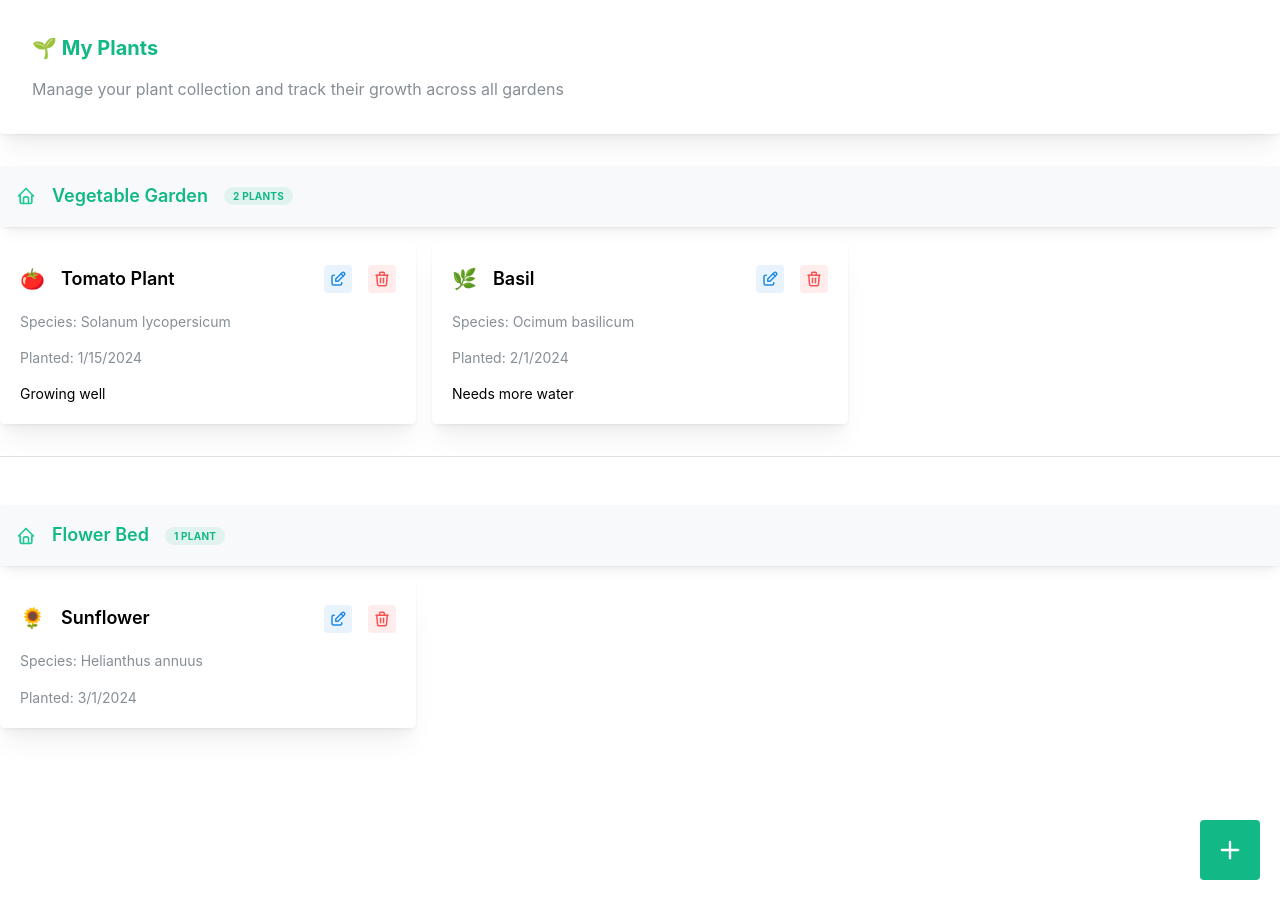
PlantList Component › Add Plant Modal › closes modal on cancel
The width and height of the screenshot is (1280, 900).
Expected: the text "🌱 My Plants" is shown, [32,36,158,60]
Click the 7th button.
click(1230, 850)  # box [1200,820,1260,880]
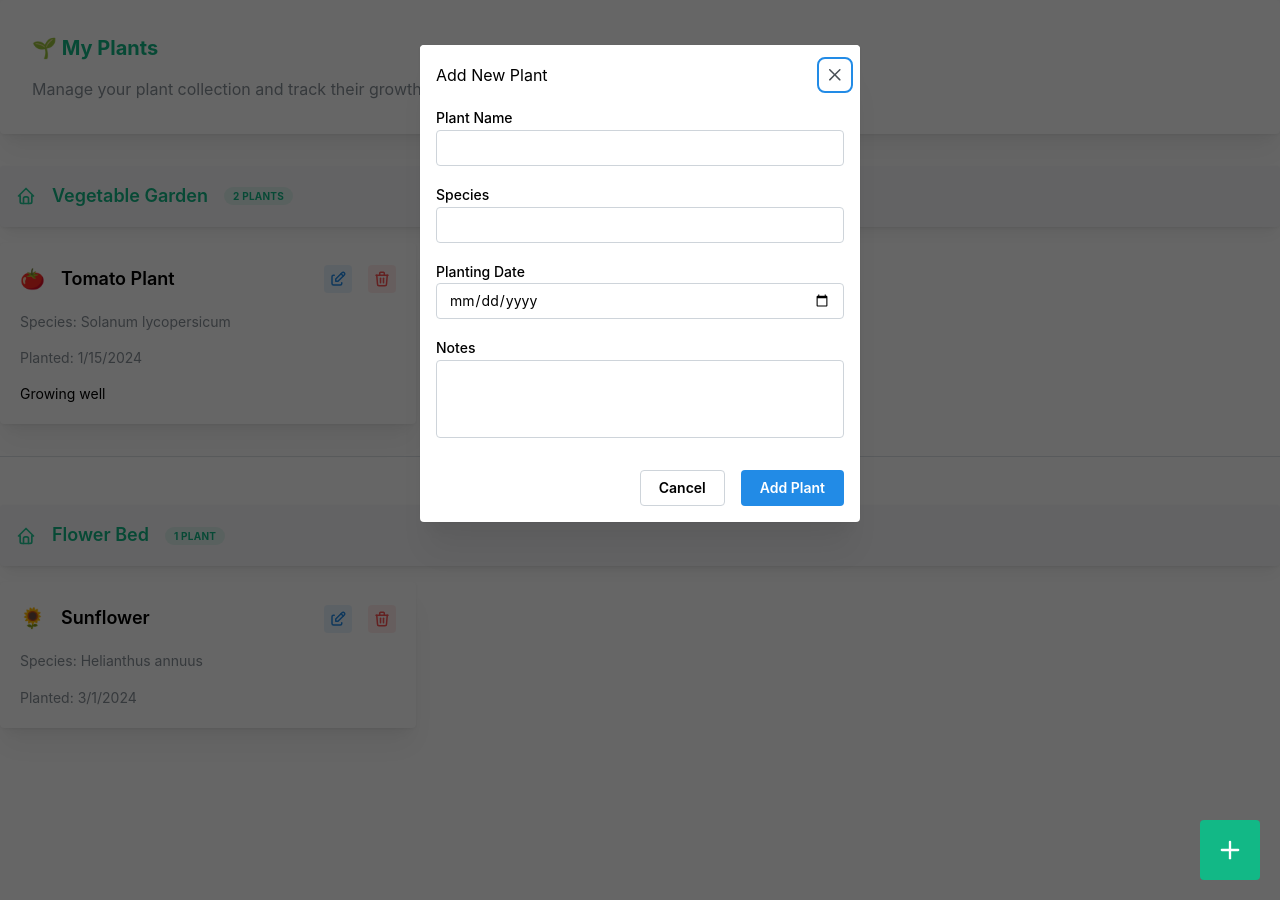
Now the heading "Add New Plant" is shown, box [436,67,548,83]
Click the button "Cancel".
click(682, 488)  # box [640,470,725,506]
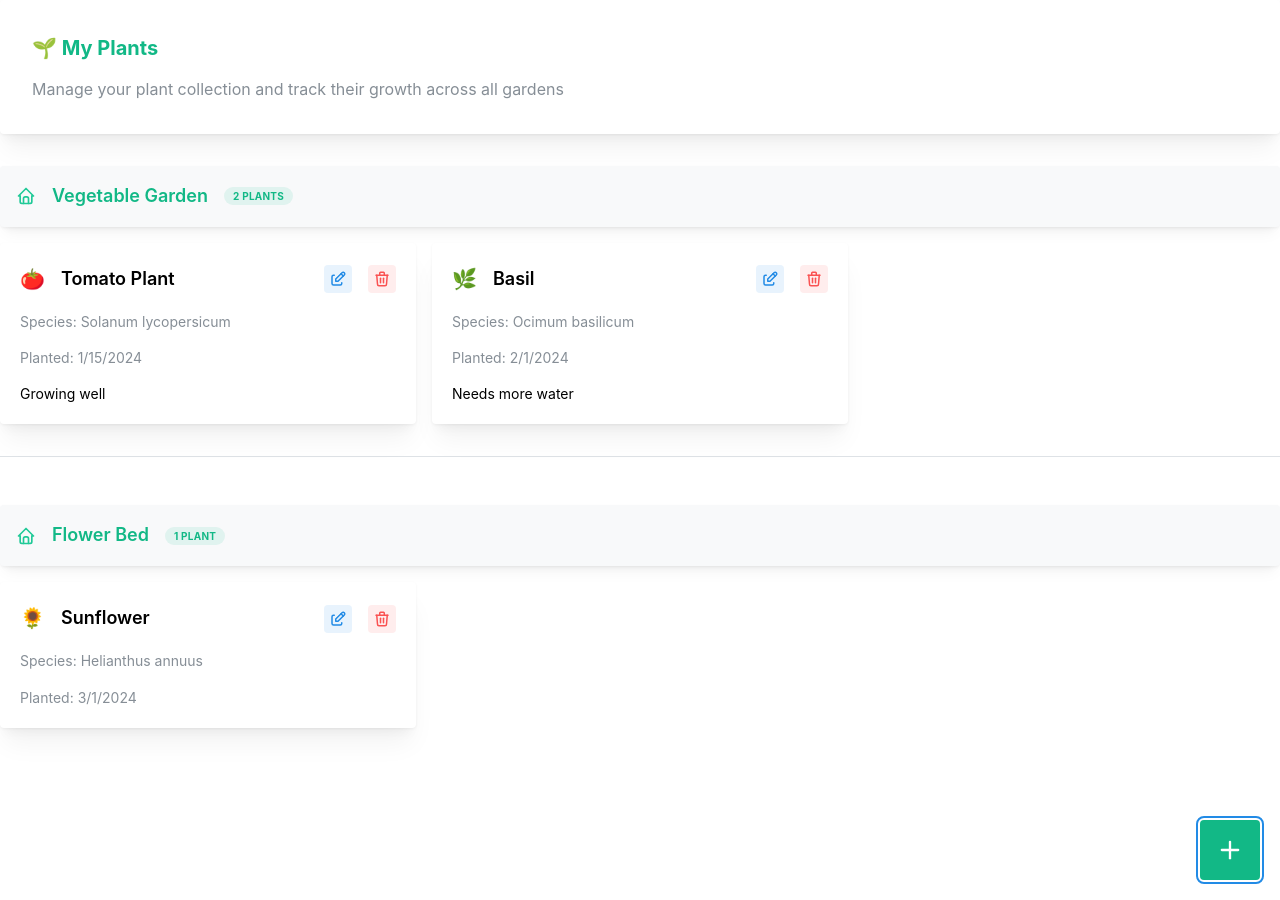
Now the heading "Add New Plant" is gone
